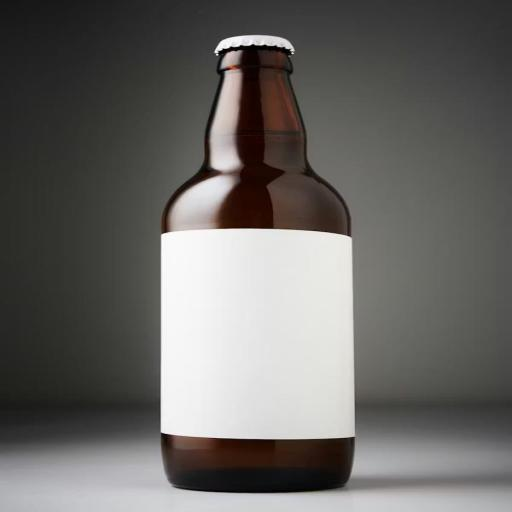bottle: (143, 28, 379, 504)
